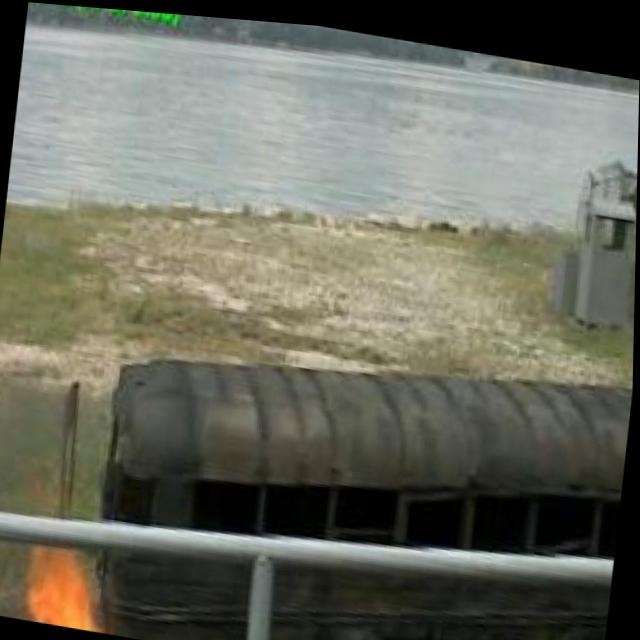Fire: (25, 546, 121, 632)
